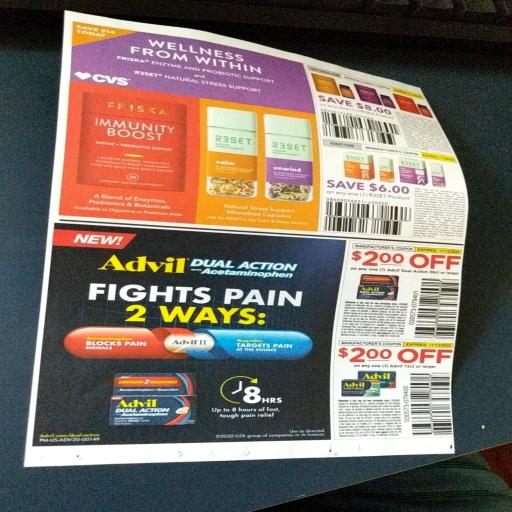paper: (13, 0, 512, 508)
